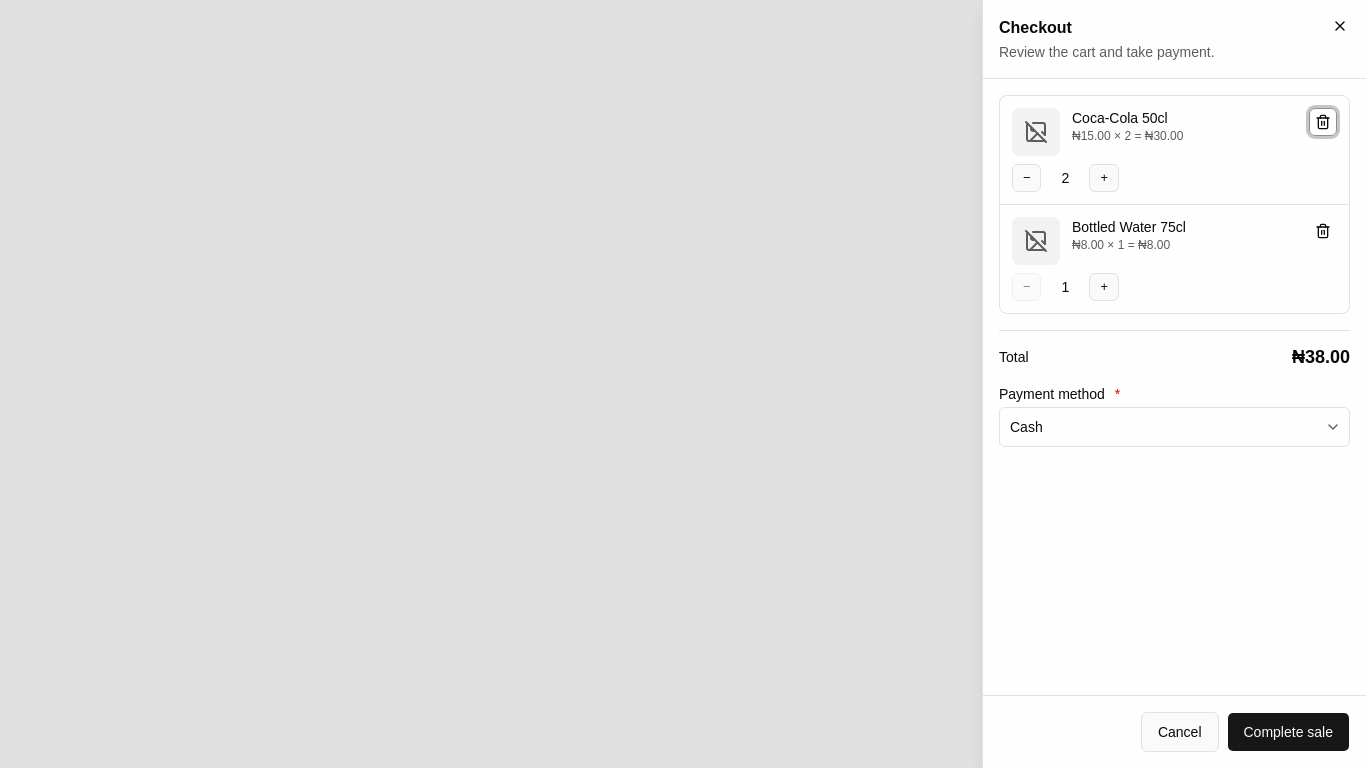
Test: CheckoutDrawer › refreshes items and flags a line when stock changed on the server
expect the dropdown named "Payment method" is enabled: met, box x1=999 y1=407 x2=1350 y2=447
Click the button "Complete sale". click: (1288, 732)
box: x1=1226 y1=712 x2=1350 y2=752
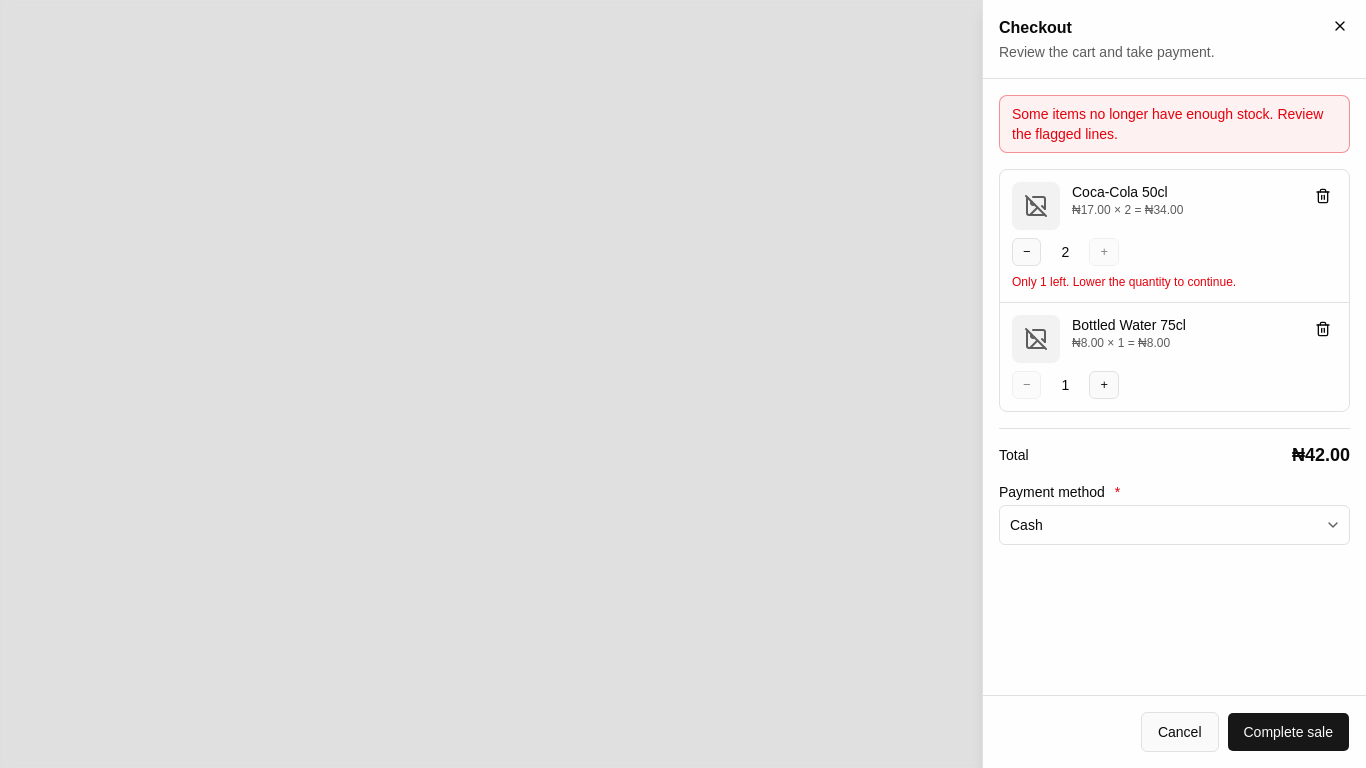
expect the text "Only 1 left. Lower the quantity to continue." is shown: met, box x1=1012 y1=275 x2=1236 y2=289
expect the text "Some items no longer have enough stock. Review the flagged lines." is shown: met, box x1=999 y1=95 x2=1350 y2=153
